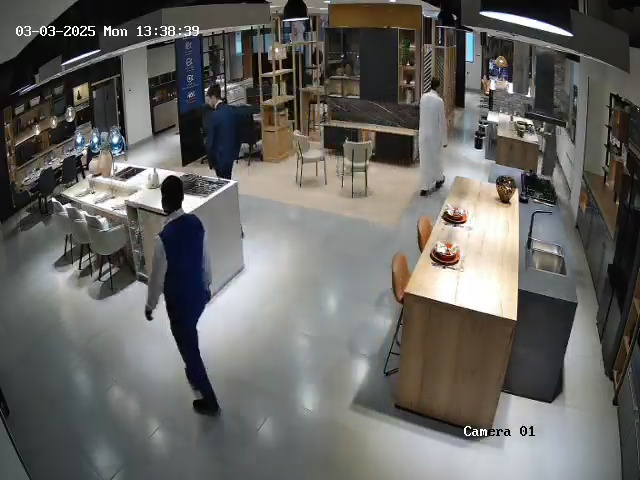employee: (144, 175, 221, 416)
male: (418, 77, 448, 197), (204, 84, 241, 180), (535, 119, 565, 188)
